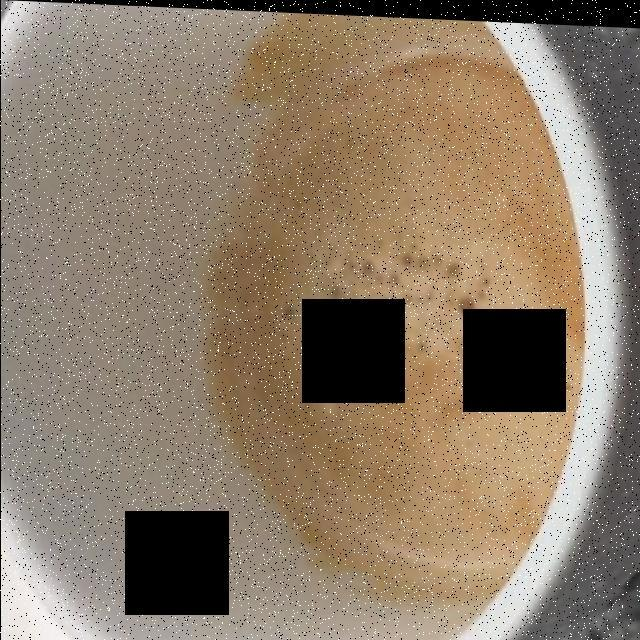espresso: (205, 29, 577, 593)
